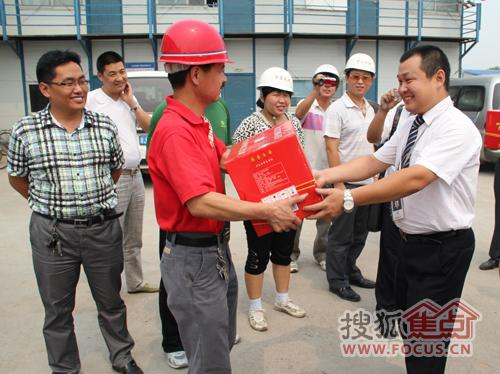helmet: (158, 18, 233, 68), (259, 68, 297, 94), (343, 52, 380, 75), (315, 63, 341, 84)
